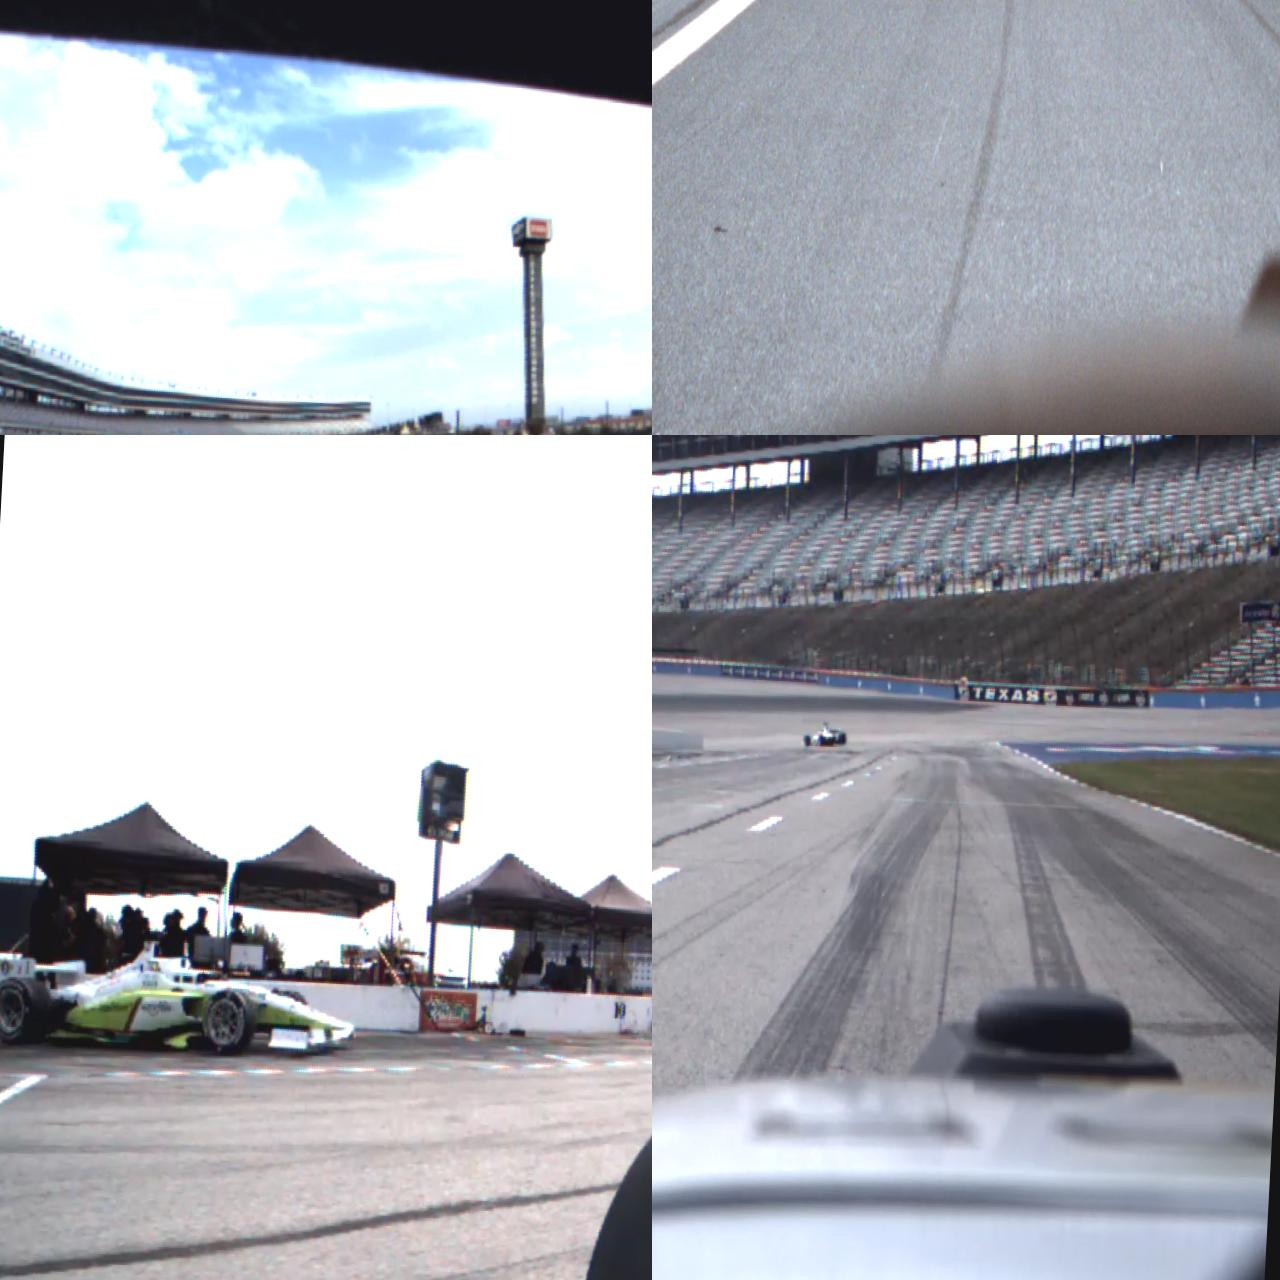AV: (0, 922, 361, 1064), (802, 720, 847, 749)
Wheel: (202, 987, 259, 1058), (0, 973, 53, 1048), (837, 733, 845, 744), (817, 735, 824, 747), (804, 734, 810, 745)
